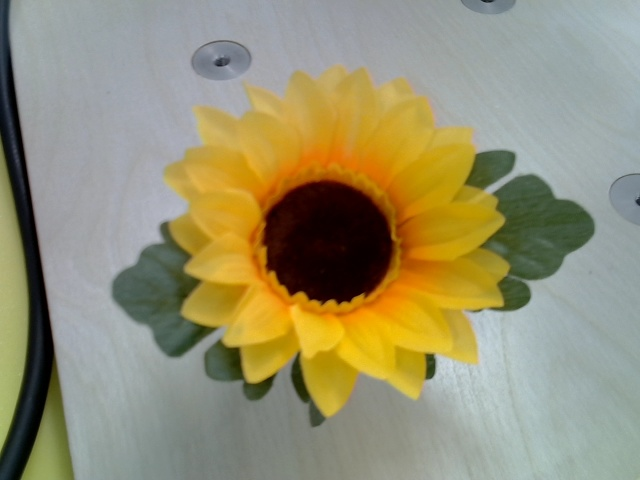해바라기: (174, 64, 502, 413)
